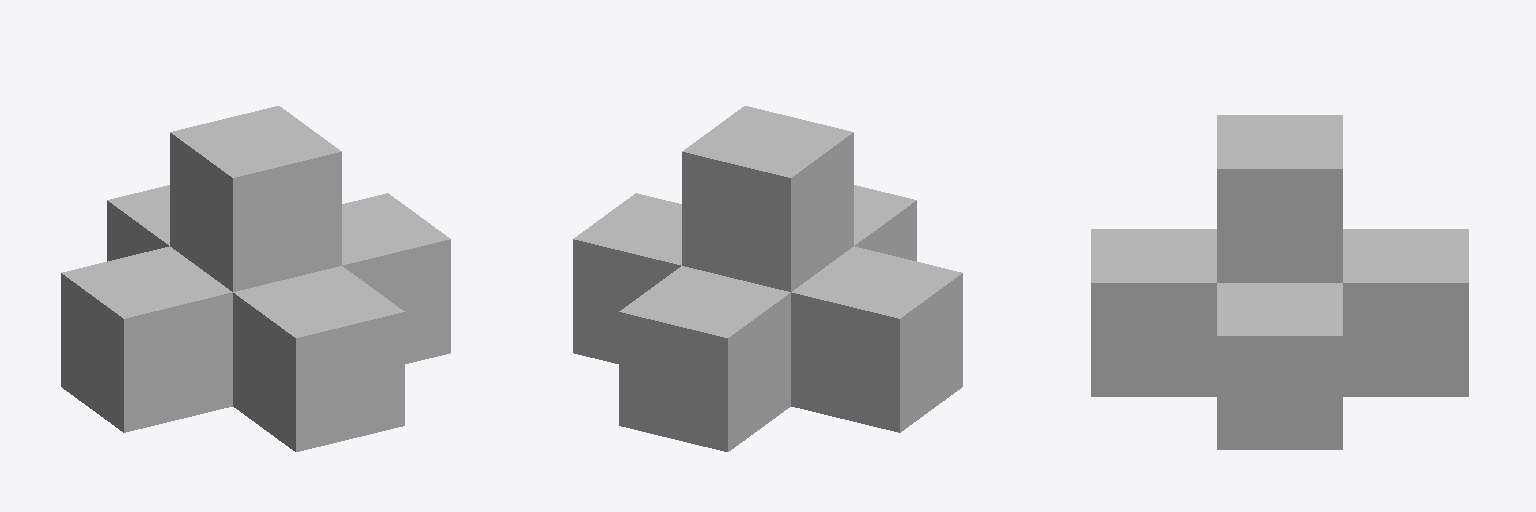
Rendered from sqtshape.obj.
The picture shows the model from 3 angles: view 1: azimuth 30°, elevation 25°; view 2: azimuth 150°, elevation 25°; view 3: azimuth 270°, elevation 25°; orthographic projection.
Visible parts, largest first — view 1: Cube; view 2: Cube; view 3: Cube.
Boxes of the visible parts, box(x1,y1,x2,y2) form: Cube: box(61, 106, 450, 451); Cube: box(573, 106, 962, 451); Cube: box(1091, 115, 1468, 449).
Bounding box in the file's own units: 1.8 × 1.2 × 1.8.